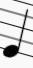note: (3, 4, 30, 60)
